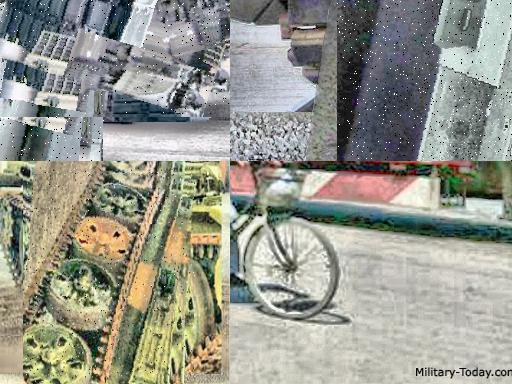tanks: (25, 169, 196, 384), (1, 1, 231, 117), (354, 1, 512, 162), (1, 1, 108, 162), (167, 1, 231, 45)
